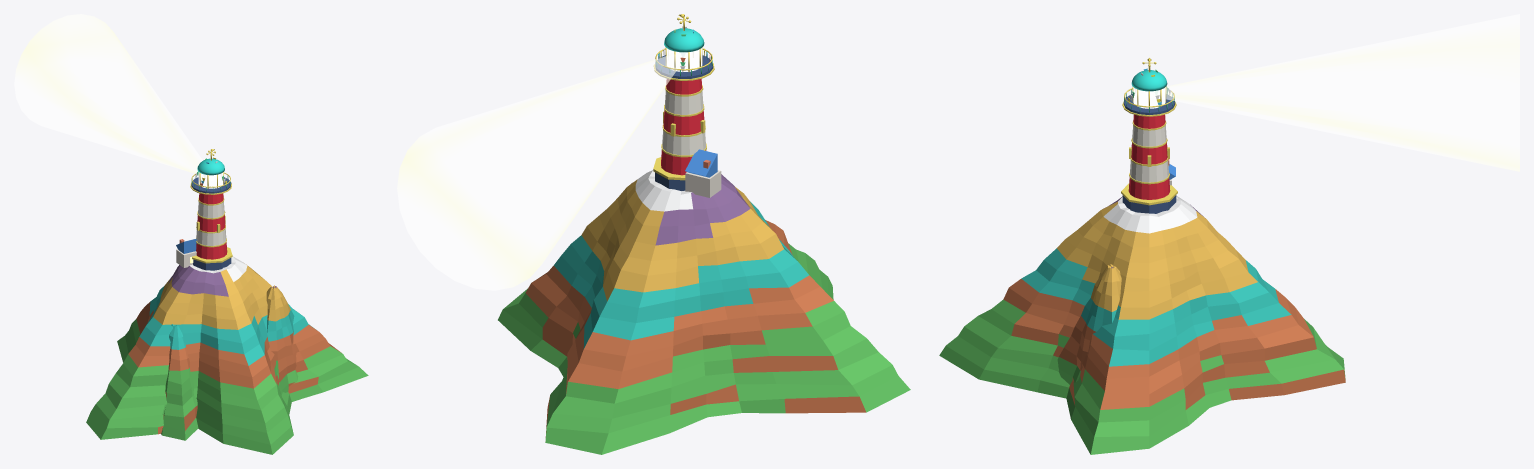
File: faro-atmosferico-C9wDmHWw.glb
The picture shows the model from 3 angles, left to right: view 1: azimuth 30°, elevation 25°; view 2: azimuth 150°, elevation 25°; view 3: azimuth 270°, elevation 25°; orthographic projection. The views are drawn at different scales.
Parts seen in each view (by area): view 1: Pico_Rocoso, Faro_Linterna_Giratoria, Faro_Torre; view 2: Pico_Rocoso, Faro_Linterna_Giratoria, Faro_Torre; view 3: Pico_Rocoso, Faro_Linterna_Giratoria, Faro_Torre.
Boxes of the visible parts, <box> form: Pico_Rocoso: <box>86,256,368,454</box>; Faro_Linterna_Giratoria: <box>14,14,202,173</box>; Faro_Torre: <box>176,149,232,270</box>; Pico_Rocoso: <box>498,170,910,454</box>; Faro_Linterna_Giratoria: <box>397,54,681,290</box>; Faro_Torre: <box>653,14,721,197</box>; Pico_Rocoso: <box>939,195,1345,454</box>; Faro_Linterna_Giratoria: <box>1164,14,1519,171</box>; Faro_Torre: <box>1121,58,1177,213</box>.
Size of the model in its own units: 47.74 by 46.25 by 69.61.
